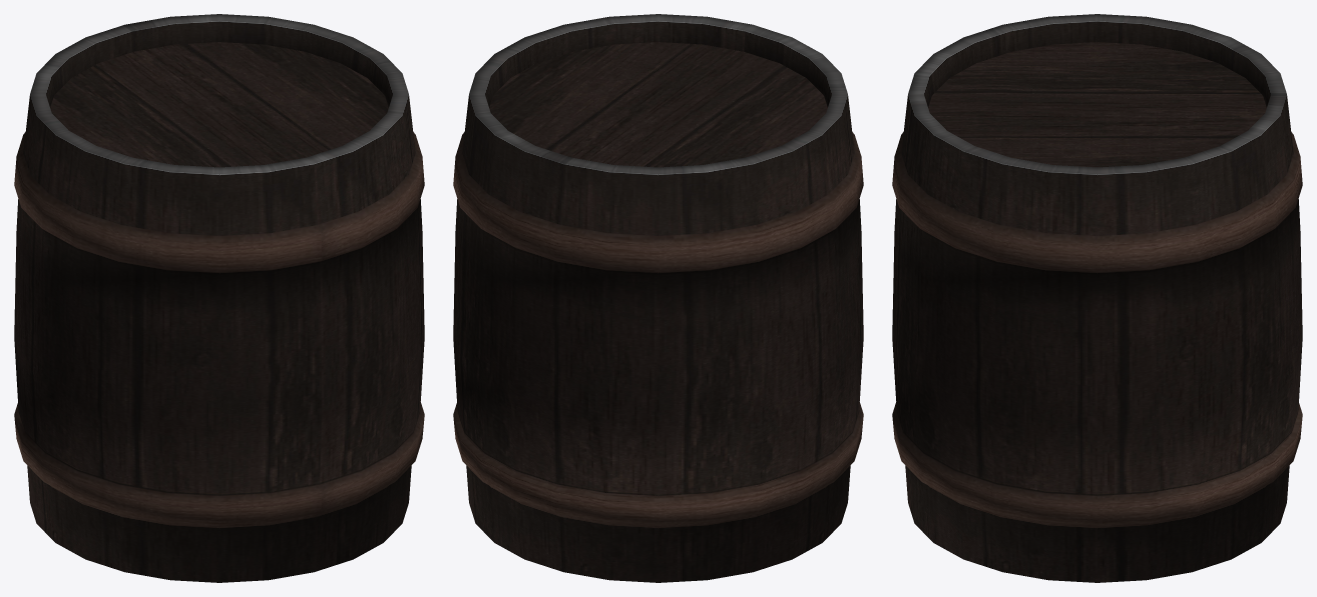
The model's file is barrel.dae.
The picture shows the model from 3 angles, left to right: view 1: azimuth 30°, elevation 25°; view 2: azimuth 150°, elevation 25°; view 3: azimuth 270°, elevation 25°; orthographic projection.
Visible parts, largest first — view 1: barrel; view 2: barrel; view 3: barrel.
Boxes of the visible parts, x1,y1,x2,y2 form: barrel: (14,14,424,582); barrel: (453,14,863,582); barrel: (892,14,1302,582).
Size of the model in its own units: 0.8321 by 0.8321 by 0.9144.
1 material, 1 textured.
